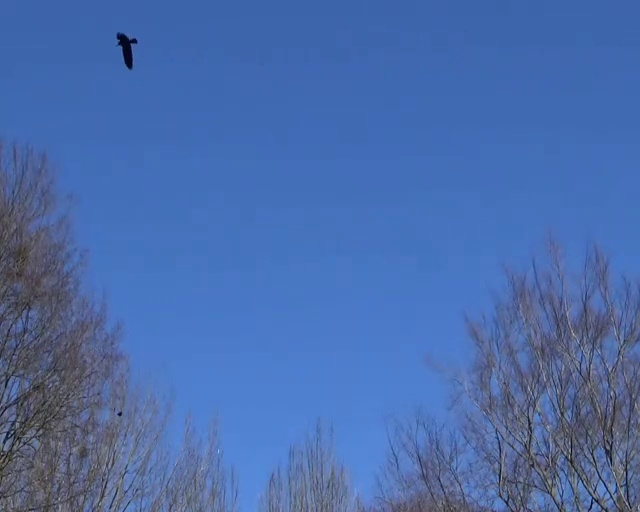BIRD: (116, 31, 137, 69)
